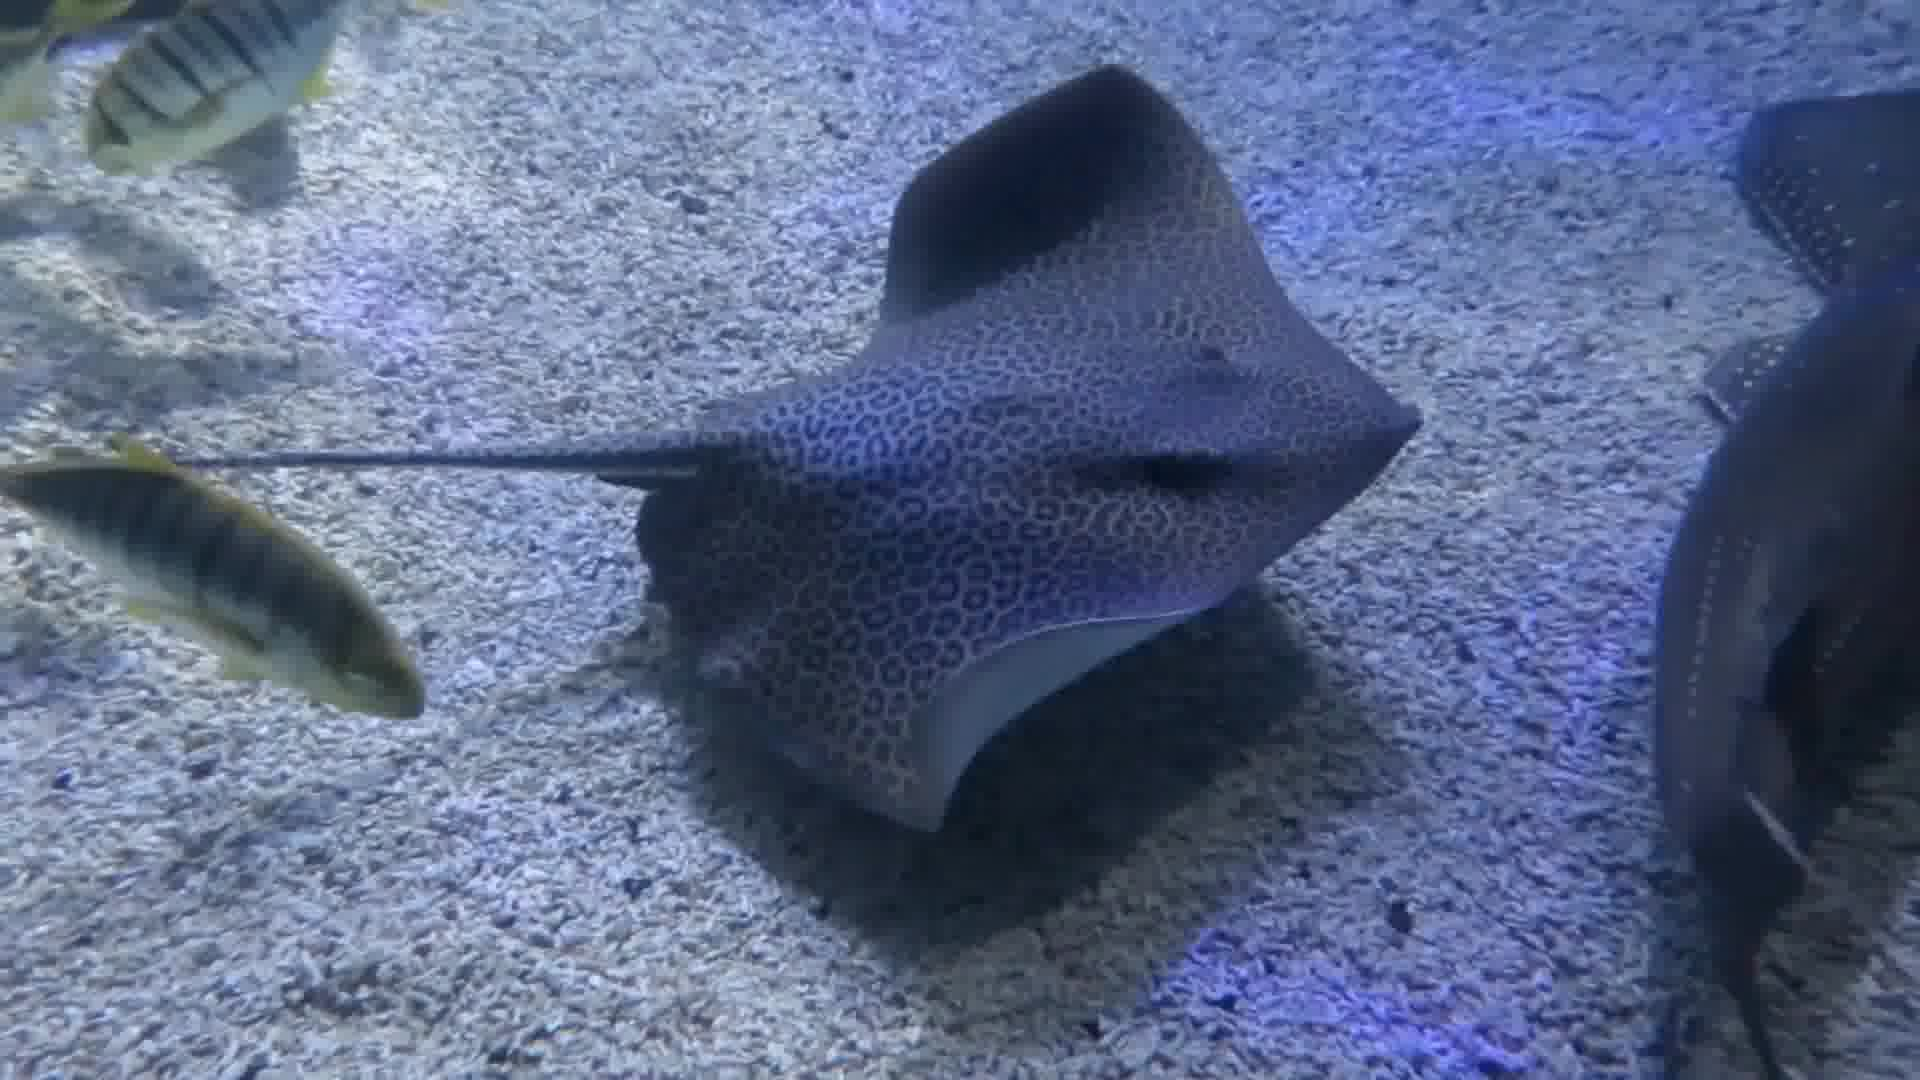Himantura uarnak: (612, 36, 1441, 847)
